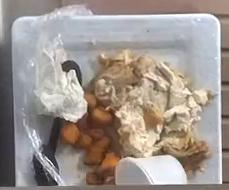carrots: (60, 90, 119, 183)
chicken: (94, 51, 202, 157)
